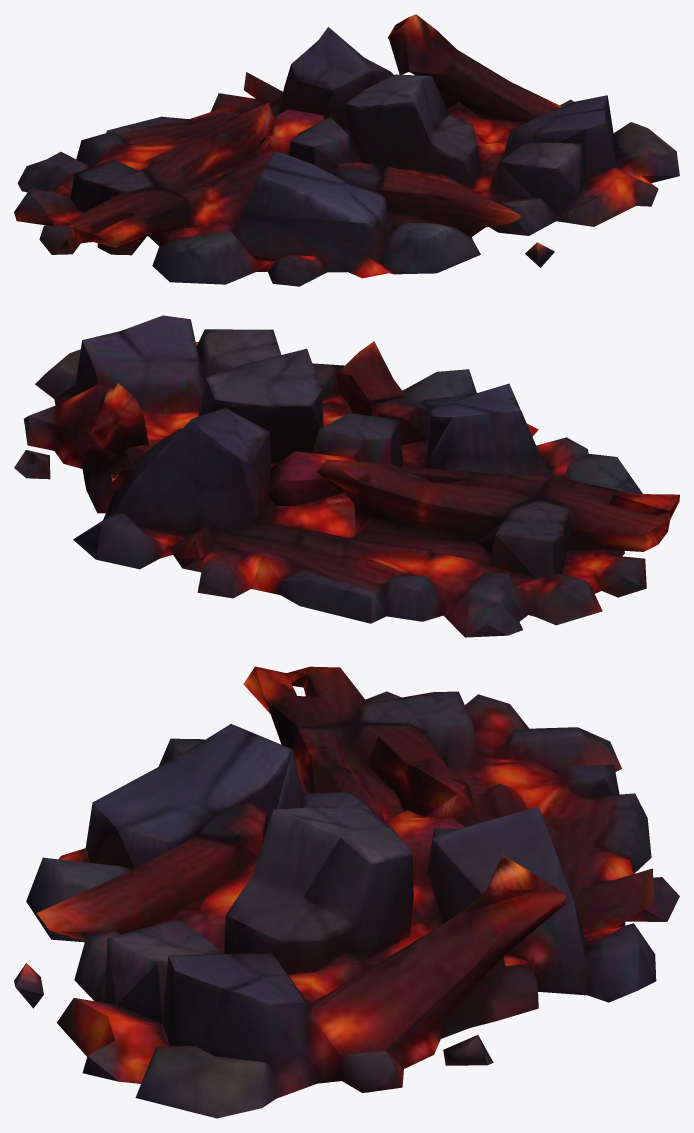
Rendered from d_braises_pied.glb.
3 renders of one model, top to bottom at view 1: azimuth 30°, elevation 25°; view 2: azimuth 150°, elevation 25°; view 3: azimuth 270°, elevation 25°, orthographic. The views are drawn at different scales.
Parts seen in each view (by area): view 1: geometry_0; view 2: geometry_0; view 3: geometry_0.
Part boxes in pixels (x1=…): geometry_0: x1=14, y1=14, x2=679, y2=286; geometry_0: x1=14, y1=315, x2=679, y2=637; geometry_0: x1=14, y1=666, x2=679, y2=1118.
Size of the model in its own units: 1.01 by 0.2099 by 0.7015.
1 material, 1 textured.
